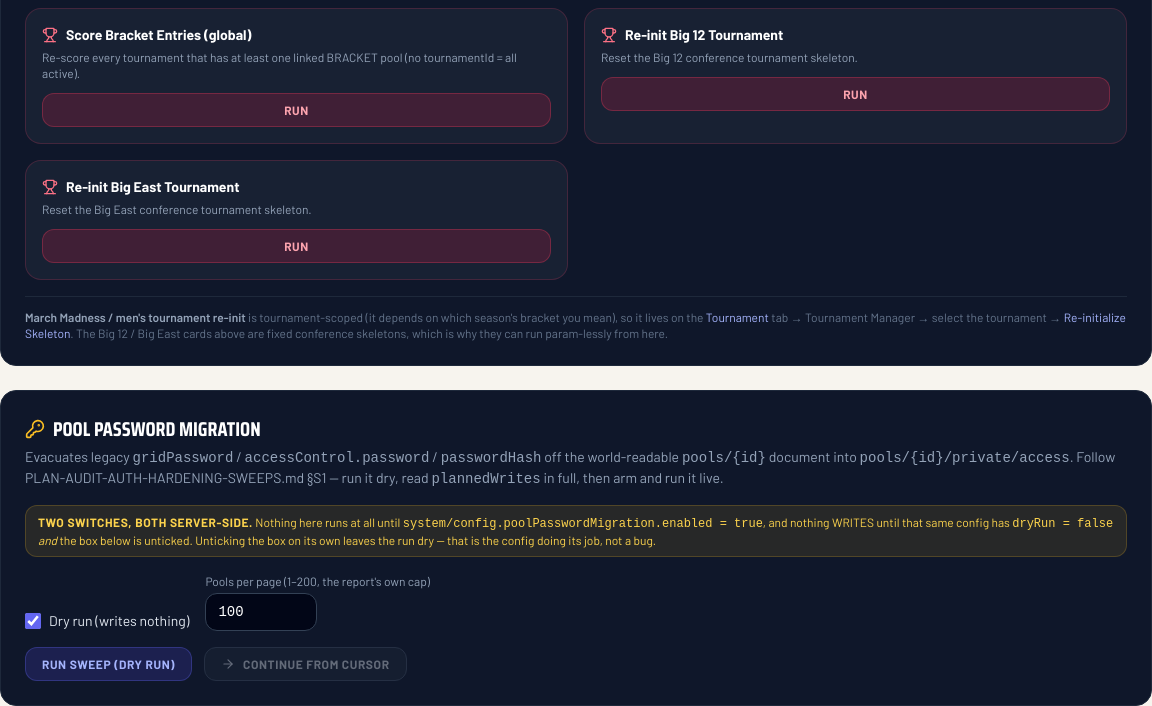
Test: S1 — pool password migration control › renders the kill-switch refusal verbatim instead of an error
(page scrolled)
Click the button "Run sweep (dry run)". click: (109, 664)
box: [25, 647, 192, 681]
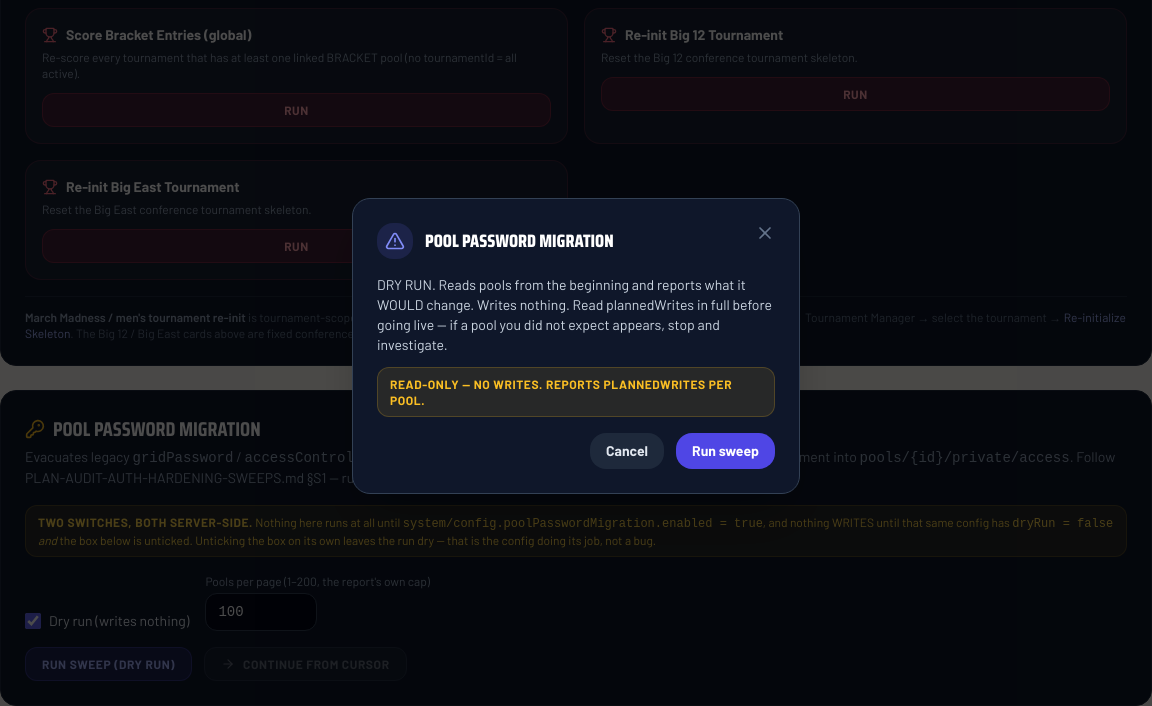
Click the button "Run sweep". click: (726, 451)
box: [676, 433, 775, 469]
(page scrolled)
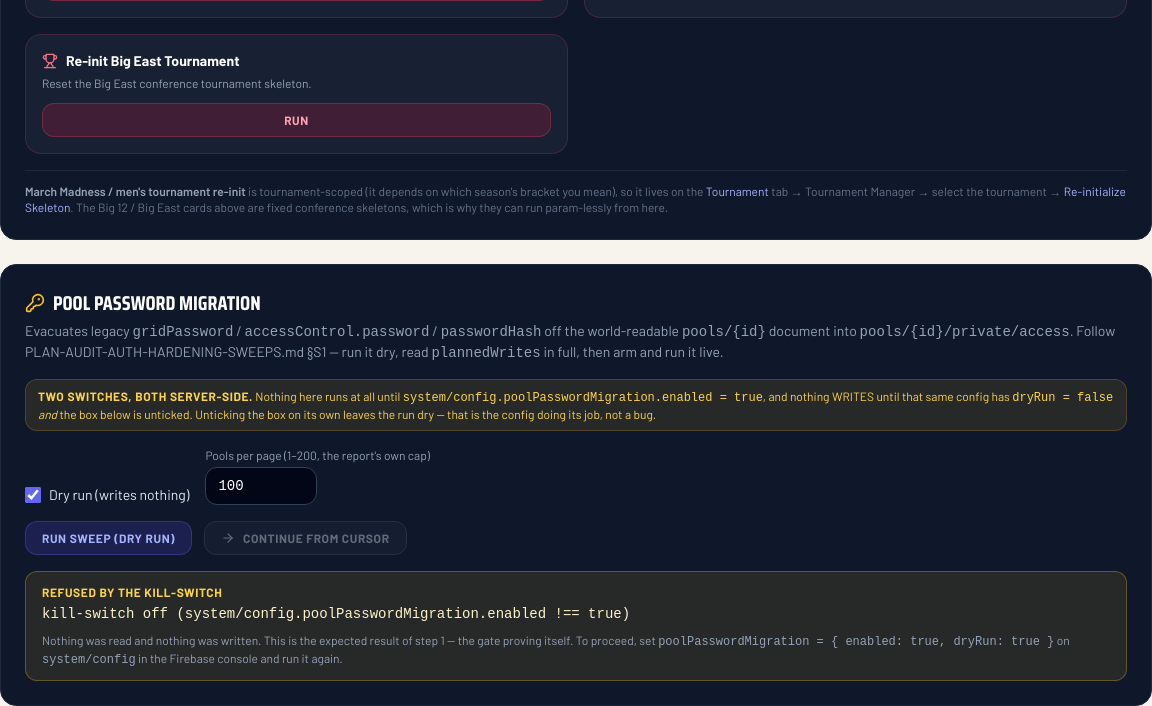
Expected: the element with test id "migration-skipped" shows "kill-switch off (system/config.poolPasswordMigration.enabled !== true)", [42, 606, 630, 622]
Expected: the element with test id "migration-skipped" shows "Refused by the kill-switch", [42, 585, 222, 599]
